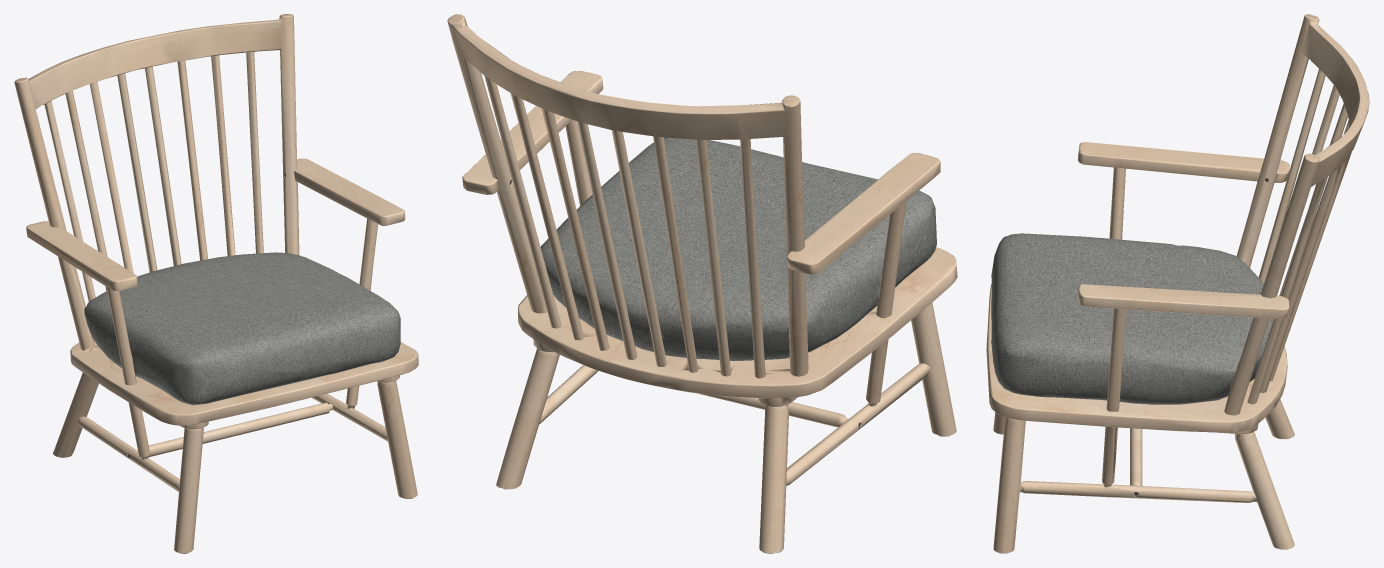
3 views of the same model, side by side, from view 1: azimuth 30°, elevation 25°; view 2: azimuth 150°, elevation 25°; view 3: azimuth 270°, elevation 25° (orthographic). The views are drawn at different scales.
Parts seen in each view (by area): view 1: ProcessedMeshNode; view 2: ProcessedMeshNode; view 3: ProcessedMeshNode.
Boxes of the visible parts, x1,y1,x2,y2 form: ProcessedMeshNode: [14, 14, 418, 553]; ProcessedMeshNode: [447, 14, 957, 553]; ProcessedMeshNode: [986, 14, 1369, 553].
Size of the model in its own units: 0.693 by 0.8469 by 0.7233.
1 material, 1 textured.
